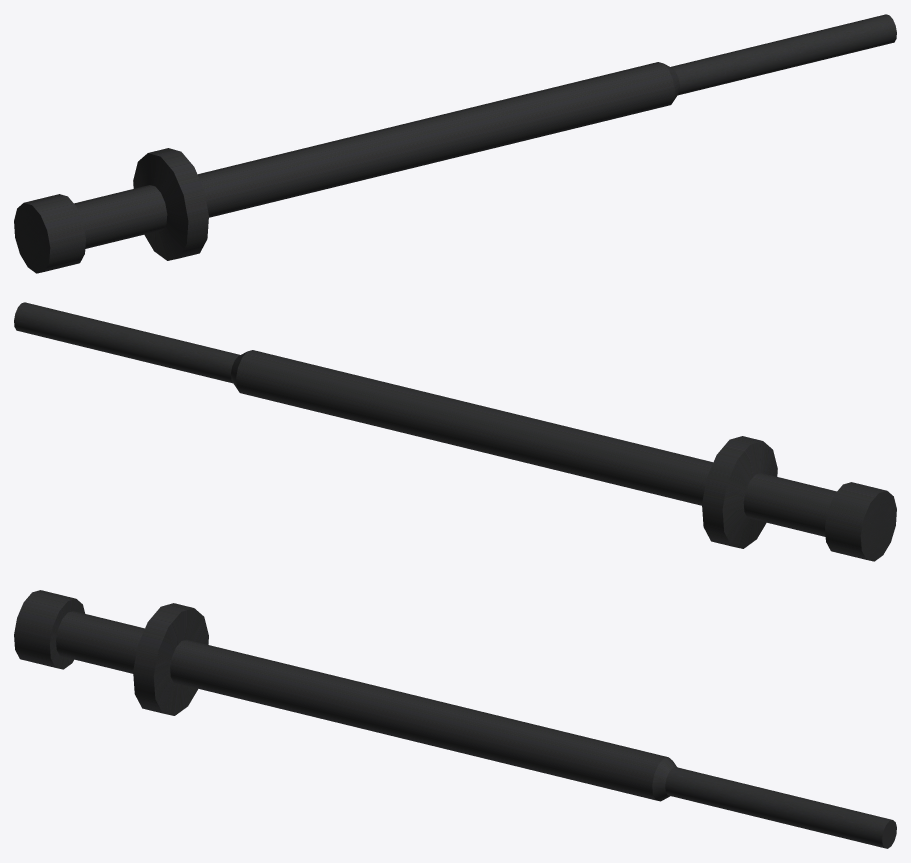
The model's file is Firing_Pin.dae.
3 views of the same model, one above another, from view 1: azimuth 30°, elevation 25°; view 2: azimuth 150°, elevation 25°; view 3: azimuth 330°, elevation 25° (orthographic).
Visible parts, largest first — view 1: Firing_Pin; view 2: Firing_Pin; view 3: Firing_Pin.
Part boxes in pixels (bbox=[...]): Firing_Pin: bbox=[14, 14, 896, 273]; Firing_Pin: bbox=[14, 302, 896, 561]; Firing_Pin: bbox=[14, 590, 896, 848].
Size of the model in its own units: 0.0809 by 0.00903 by 0.00896.
1 material, 1 textured.
